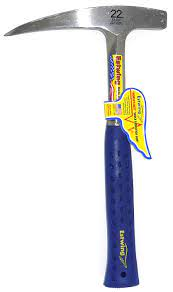hammer: (3, 5, 168, 289)
